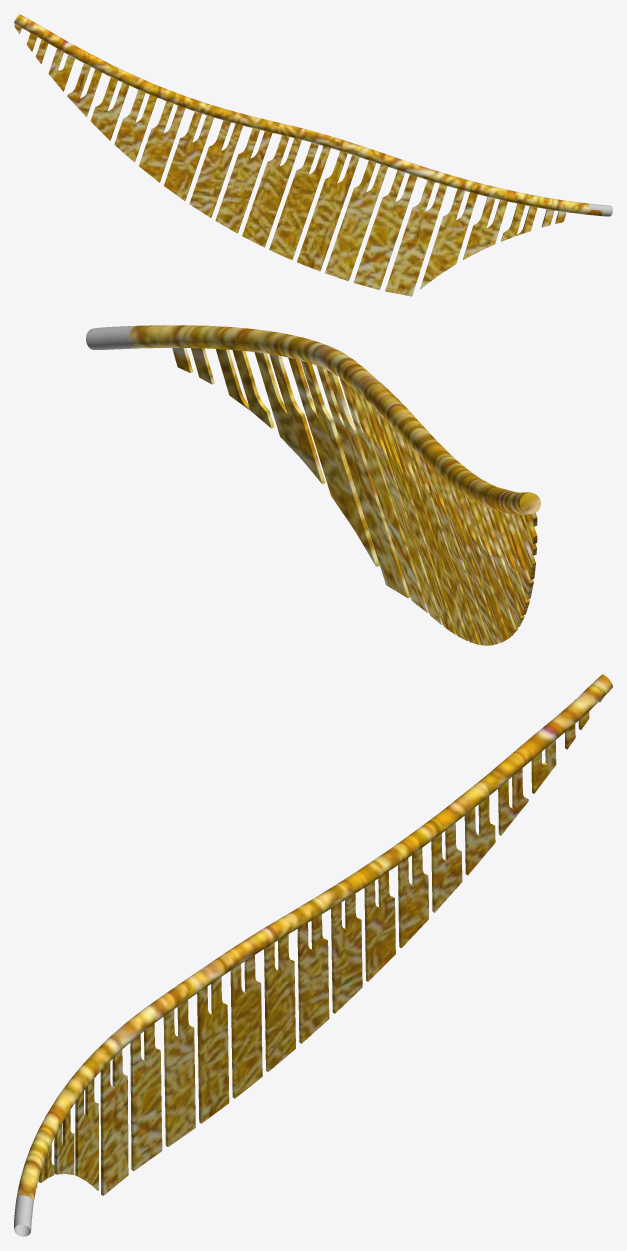
Rendered from snitchAlaI.obj.
3 views of the same model, one above another, from view 1: azimuth 30°, elevation 25°; view 2: azimuth 150°, elevation 25°; view 3: azimuth 270°, elevation 25° (orthographic). The views are drawn at different scales.
Visible parts, largest first — view 1: polySurface225; view 2: polySurface225; view 3: polySurface225.
Part boxes in pixels (x1,y1,x2,y2): polySurface225: (14,14,612,296); polySurface225: (86,325,540,645); polySurface225: (14,674,612,1236).
Size of the model in its own units: 4.79 by 2.45 by 3.87.
